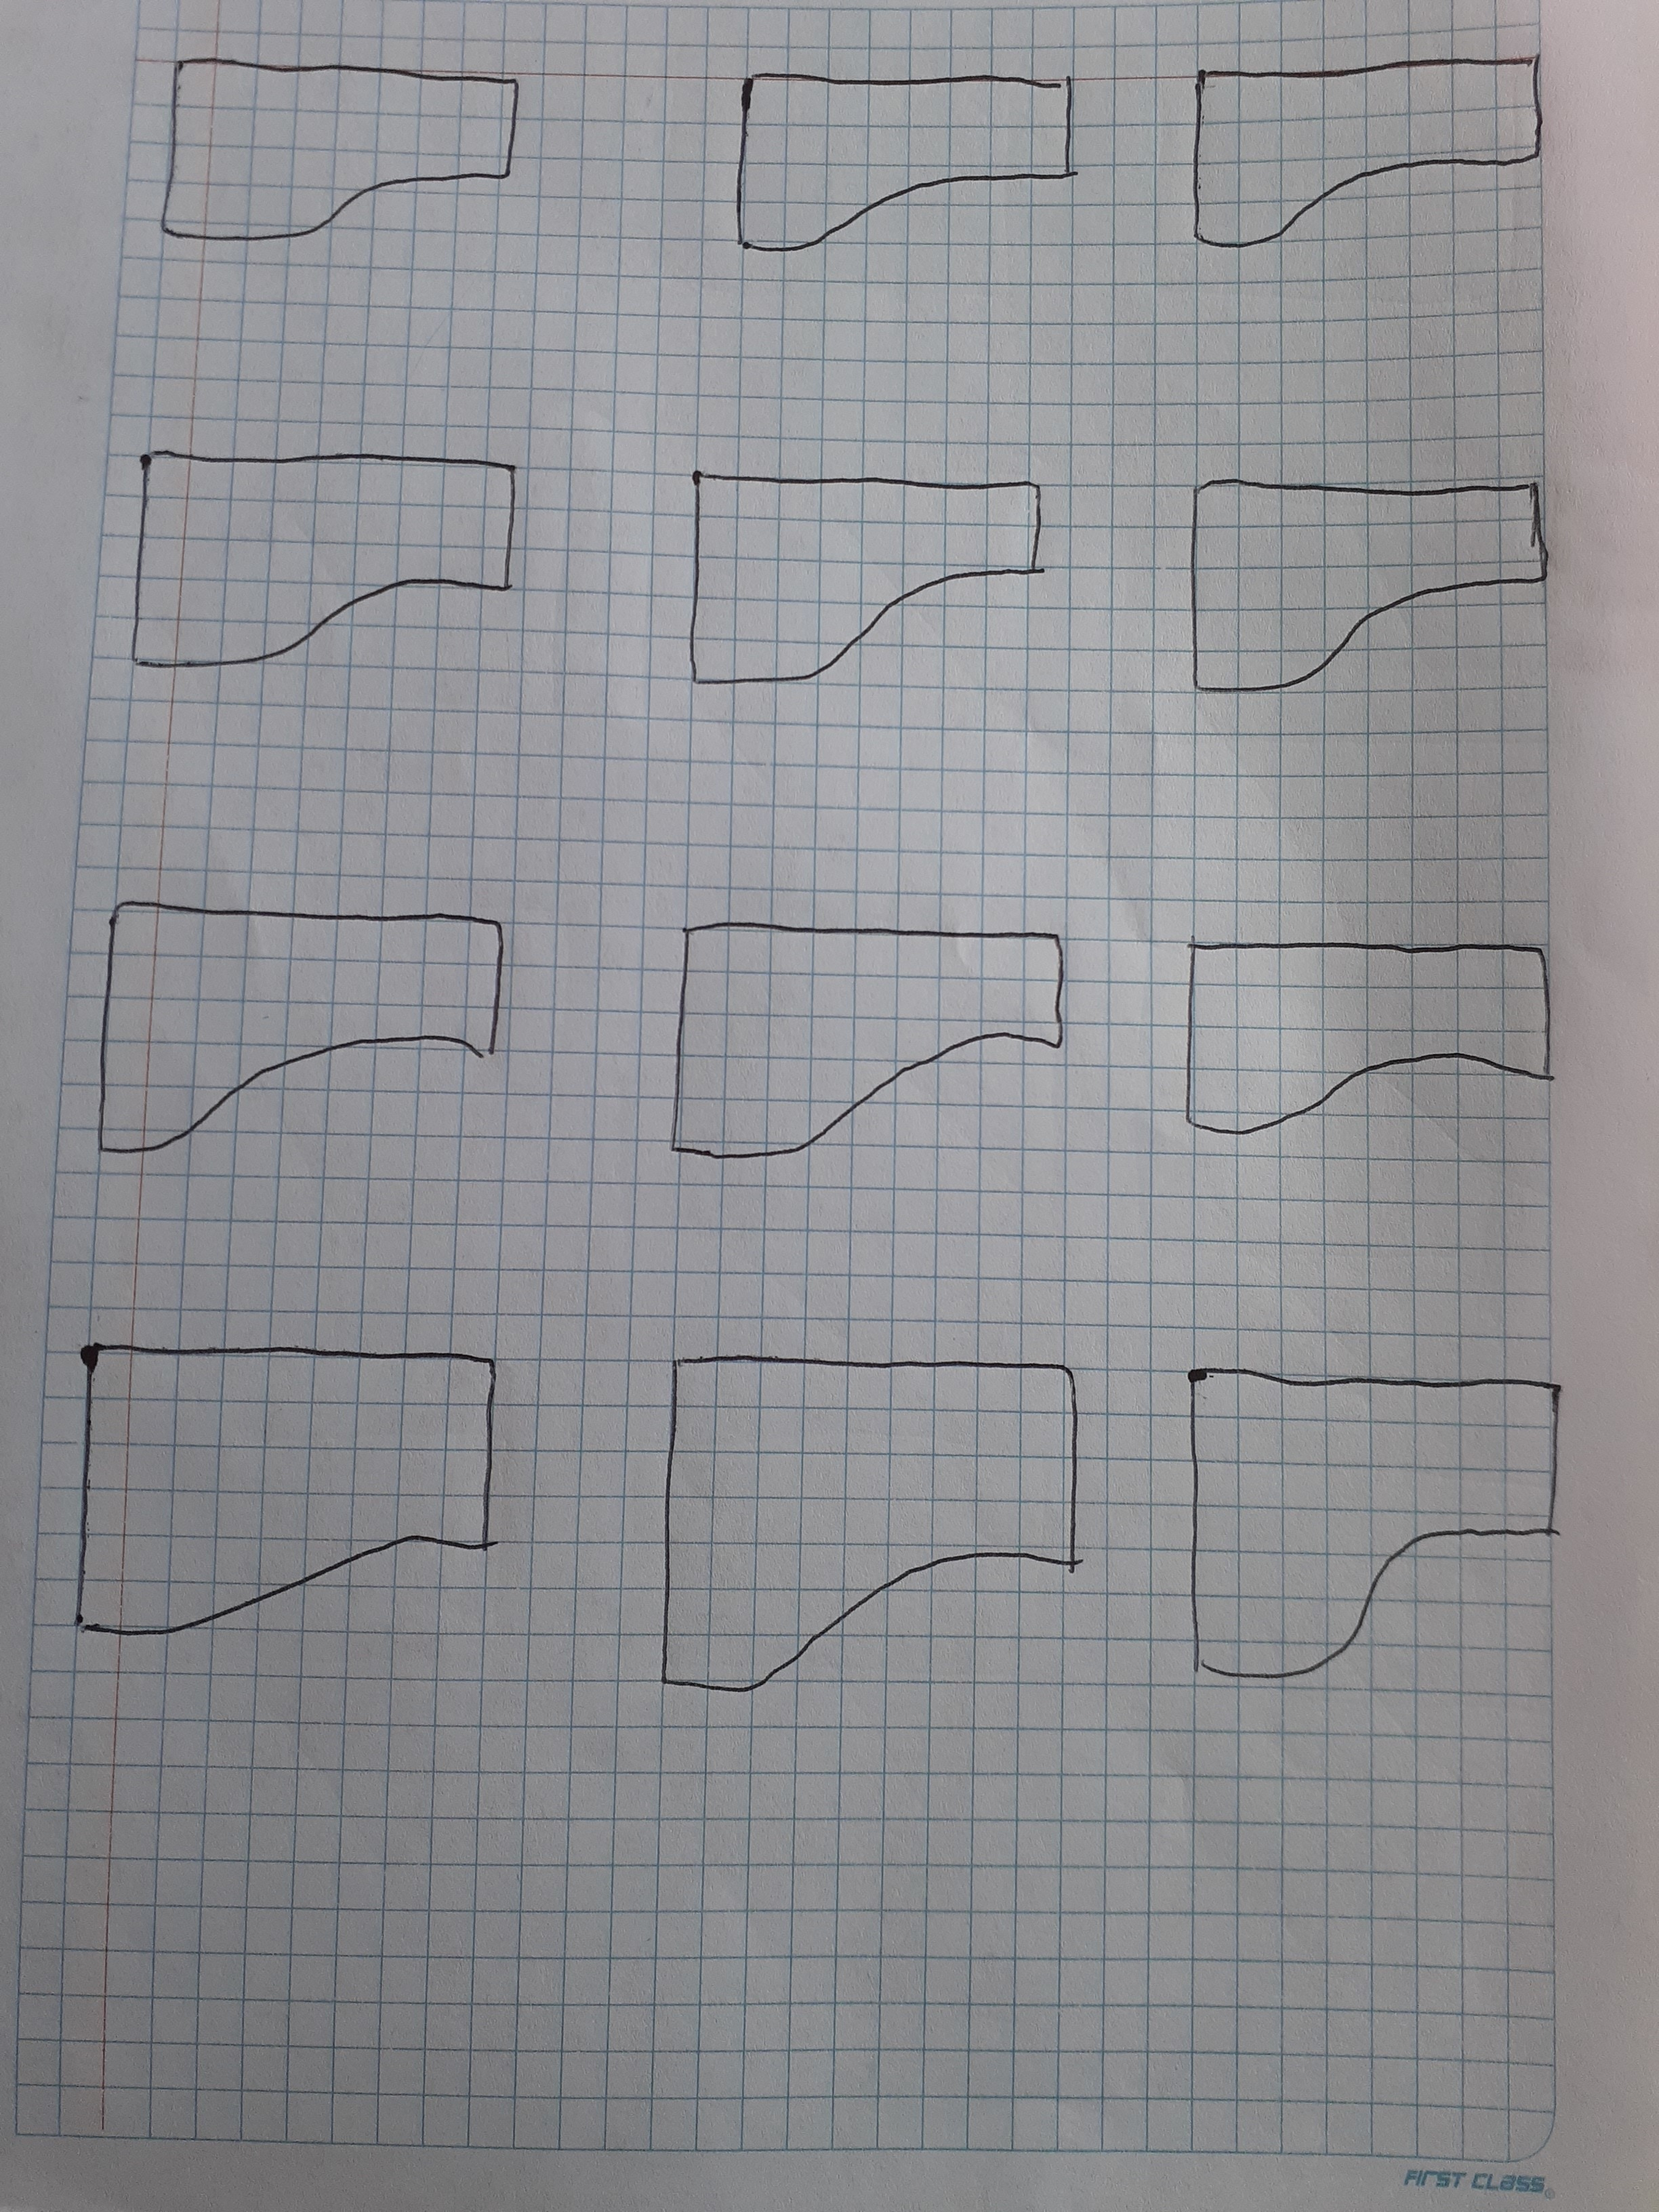print: (652, 1299, 1105, 1733), (1150, 1310, 1586, 1733), (56, 1296, 566, 1648), (68, 866, 556, 1174), (648, 869, 1079, 1211), (113, 411, 545, 716), (1169, 887, 1600, 1181), (667, 442, 1068, 716), (1166, 453, 1567, 723), (146, 19, 540, 286), (709, 38, 1086, 289), (1180, 35, 1560, 266)
